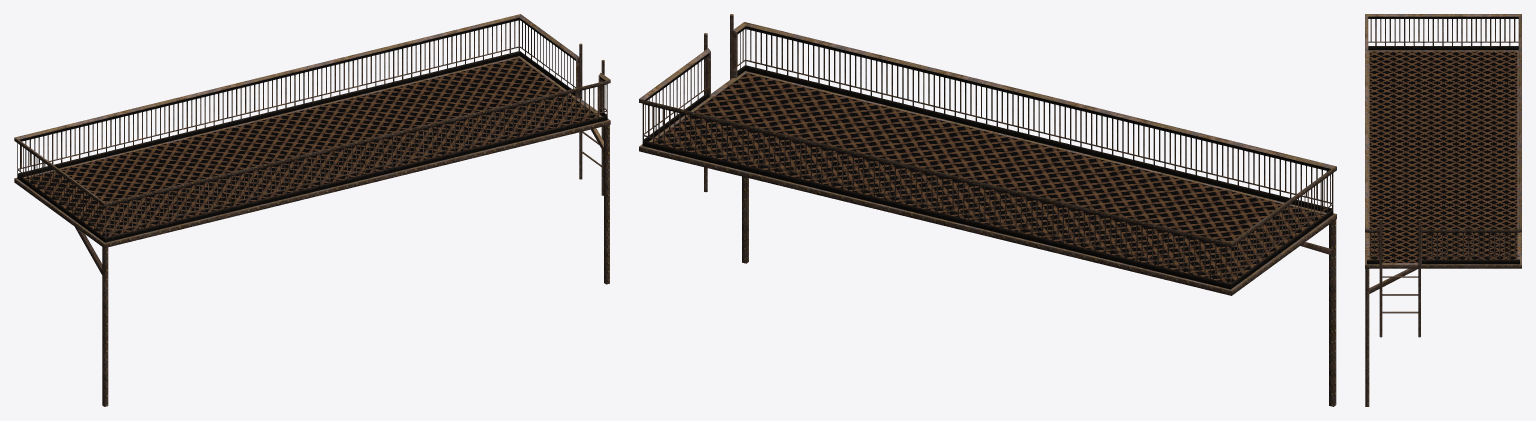
Rendered from fire_escape_bottom.fbx.
The picture shows the model from 3 angles, left to right: view 1: azimuth 30°, elevation 25°; view 2: azimuth 150°, elevation 25°; view 3: azimuth 270°, elevation 25°; orthographic projection. The views are drawn at different scales.
Parts seen in each view (by area): view 1: mesh_1, mesh_0; view 2: mesh_1, mesh_0; view 3: mesh_1, mesh_0.
Part boxes in pixels (x1,y1,x2,y2): mesh_1: [24, 58, 597, 237]; mesh_0: [14, 14, 610, 406]; mesh_1: [652, 73, 1324, 283]; mesh_0: [639, 14, 1336, 406]; mesh_1: [1369, 51, 1517, 262]; mesh_0: [1365, 14, 1521, 406].
Size of the model in its own units: 1308 by 530 by 400.
2 materials, 2 textured.
